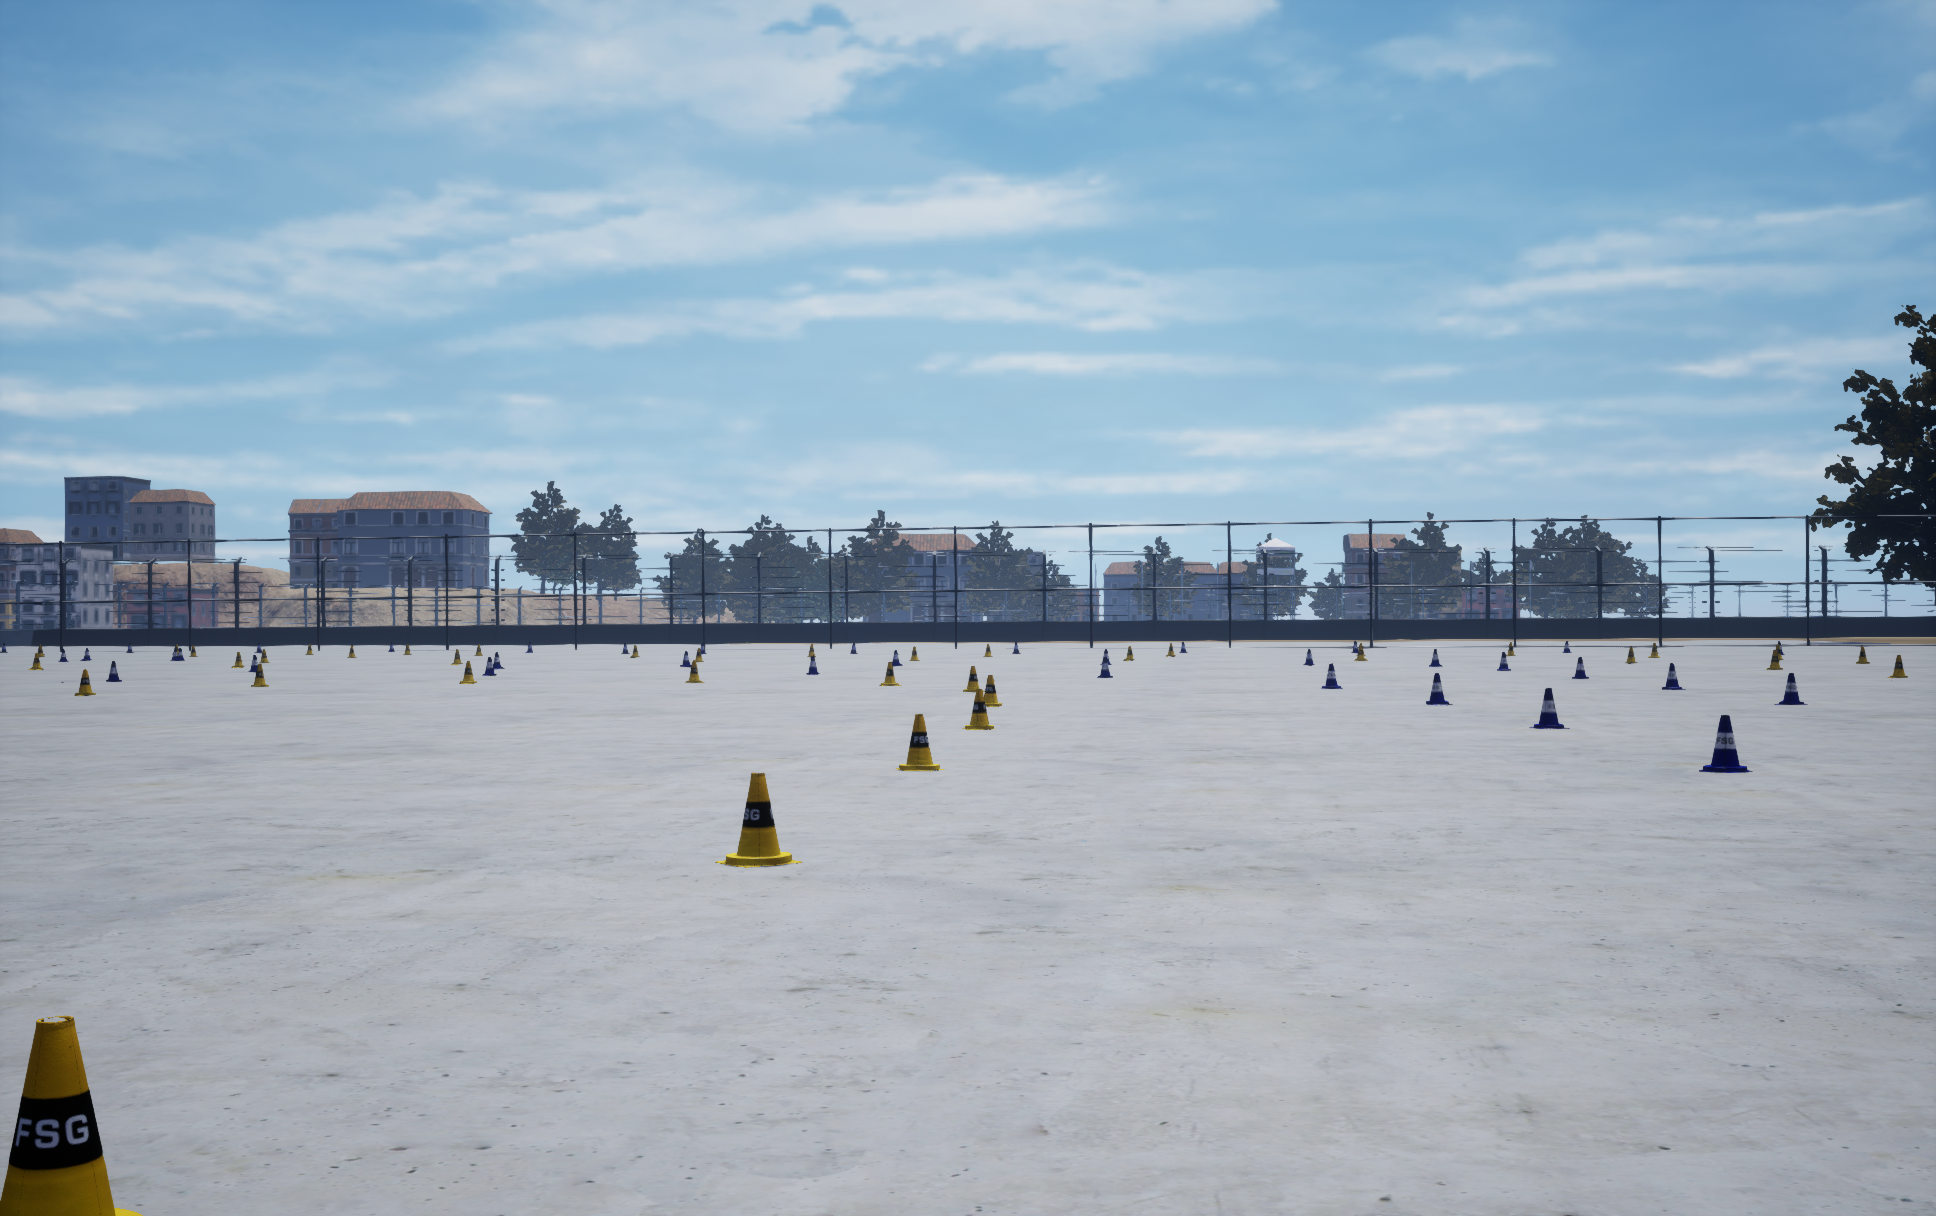blue: (0, 1016, 141, 1215), (714, 773, 803, 867), (897, 714, 944, 771), (962, 689, 995, 728), (983, 675, 1002, 706), (74, 670, 95, 695), (962, 665, 983, 691), (878, 663, 901, 685), (685, 660, 705, 682), (1887, 656, 1907, 677), (251, 664, 268, 686), (459, 661, 476, 684), (1766, 650, 1782, 670)
yellow: (1699, 714, 1752, 772), (1528, 688, 1569, 728), (1773, 672, 1807, 705), (1426, 672, 1451, 705), (1661, 663, 1685, 689), (1321, 663, 1342, 688), (1572, 657, 1589, 678), (1097, 657, 1112, 677), (106, 661, 120, 681), (482, 657, 496, 675), (805, 656, 820, 674), (1498, 651, 1510, 670)
